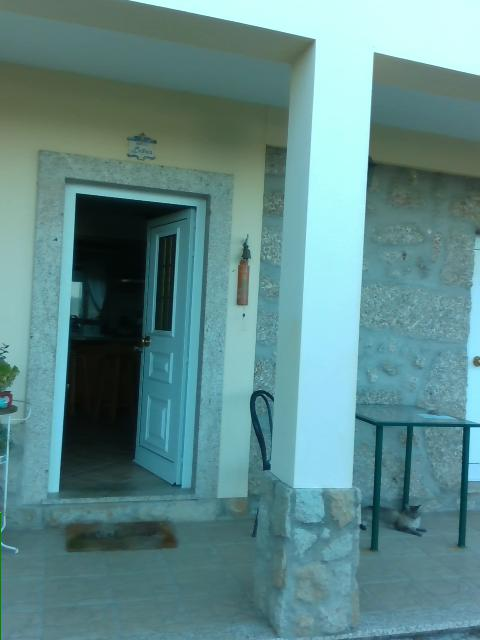door: (132, 206, 195, 486)
